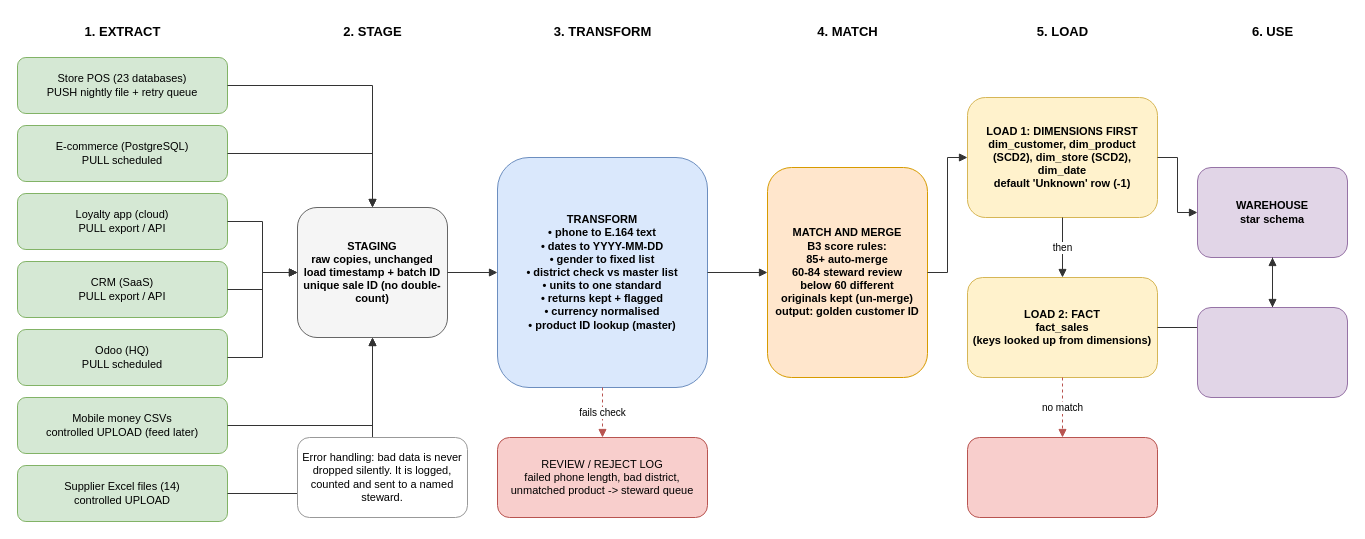
Some shapes in this 1365 by 539 pixel diagram are drawn without their labels. The shapes that lost their labels are listed below. From the top down, each one's centre as x and y in pixels, then its label:
pixel 1272 352: DASHBOARD (Power BI) masked analytics copy
pixel 1062 477: UNKNOWN-ROW LOG unmatched keys loaded to -1 and counted as a quality metric
